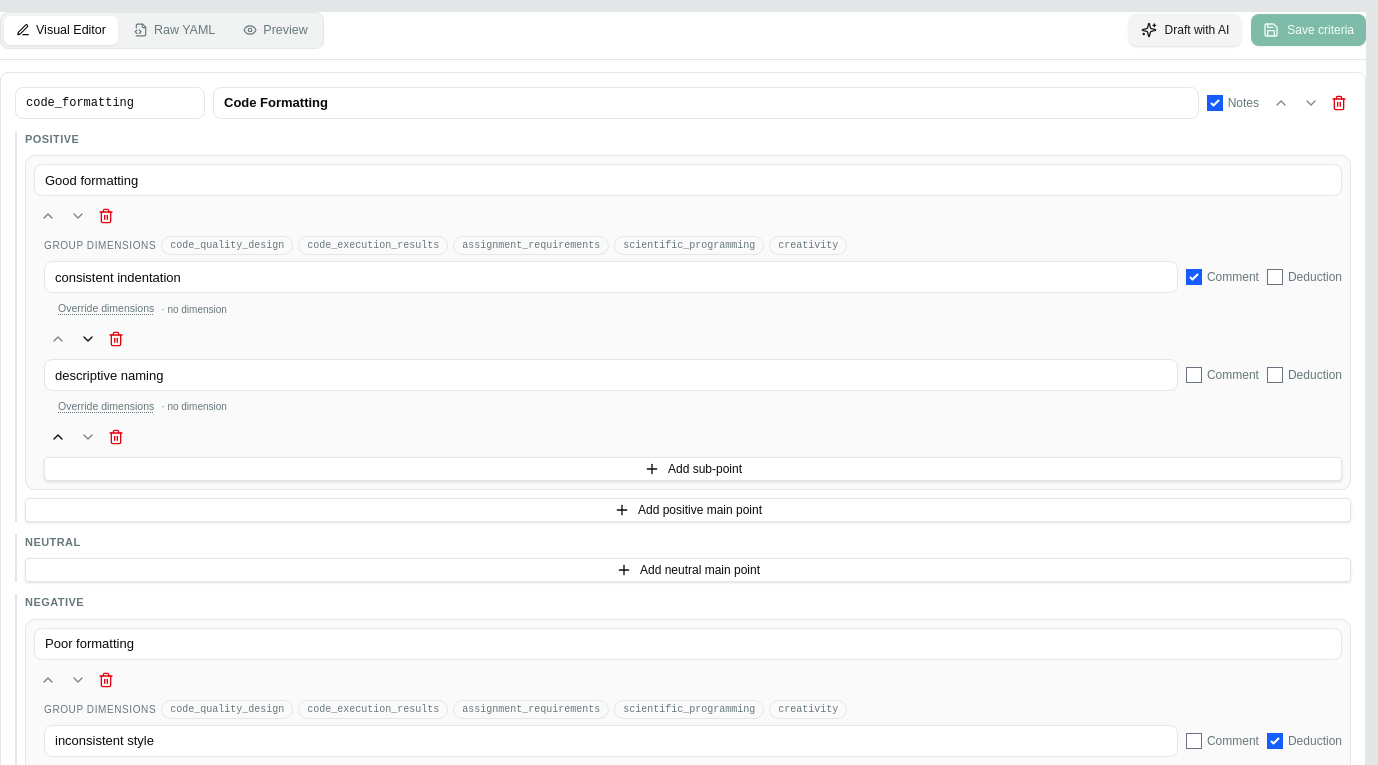
Test: criteria editor — dimension controls › selecting a dimension clears the indicator (and deselecting restores it)
The width and height of the screenshot is (1378, 765).
Check: the 1st text "· no dimension" is shown, box [161,302,227,317]
// Open the override editor and pick a dimension.
Click the 1st button "Override dimensions": [106, 309] box [58,301,154,317]
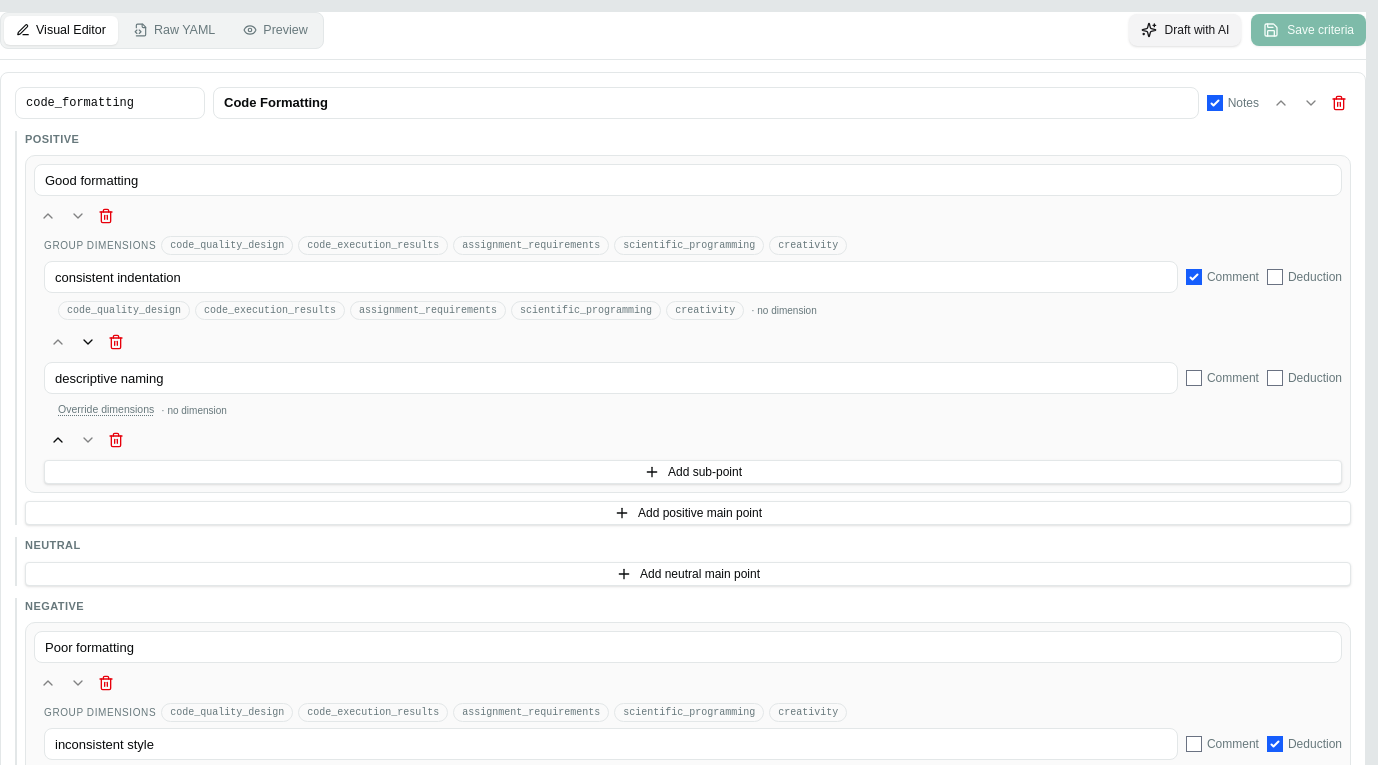
Click the 2nd button "creativity": [705, 311] box [666,301,744,320]
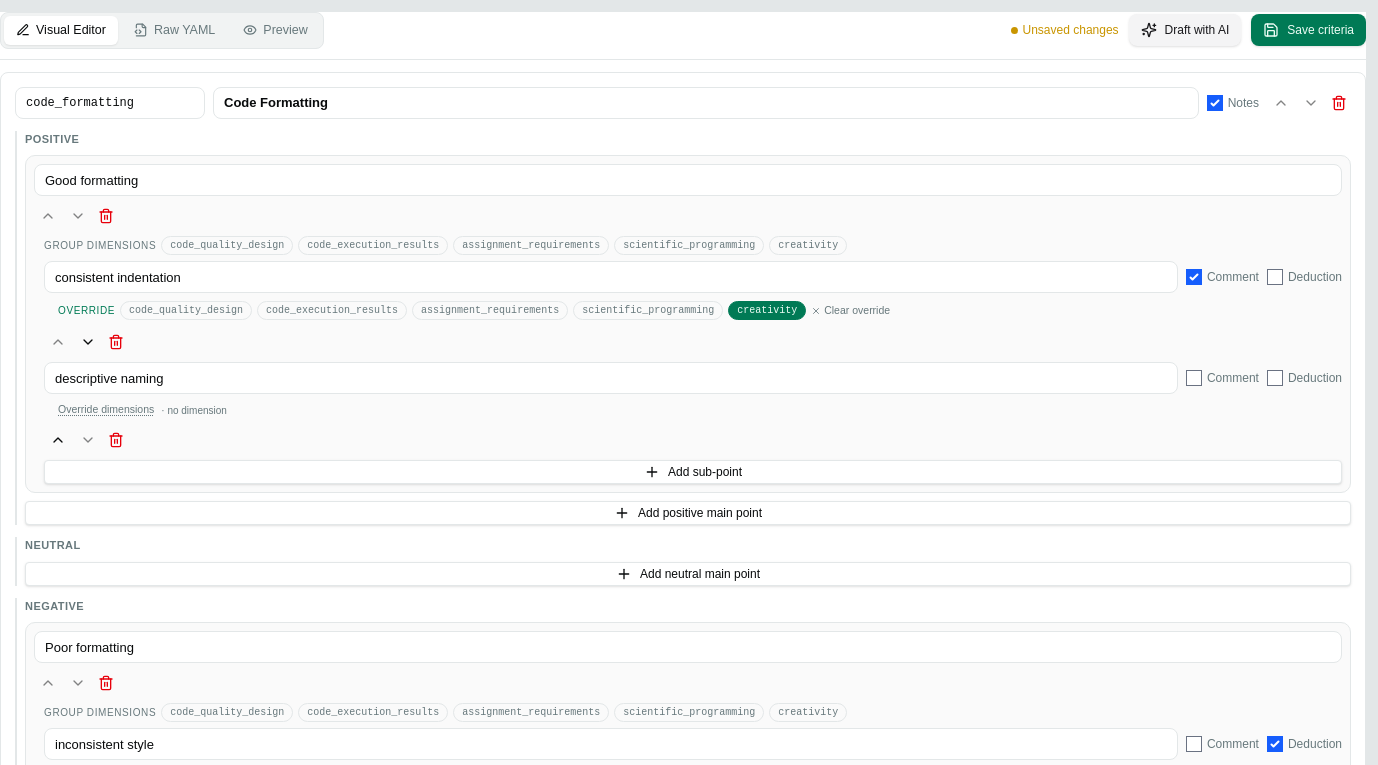
// Deselecting closes the empty override editor and the indicator returns.
Click the 2nd button "creativity": [767, 311] box [728,301,806,320]
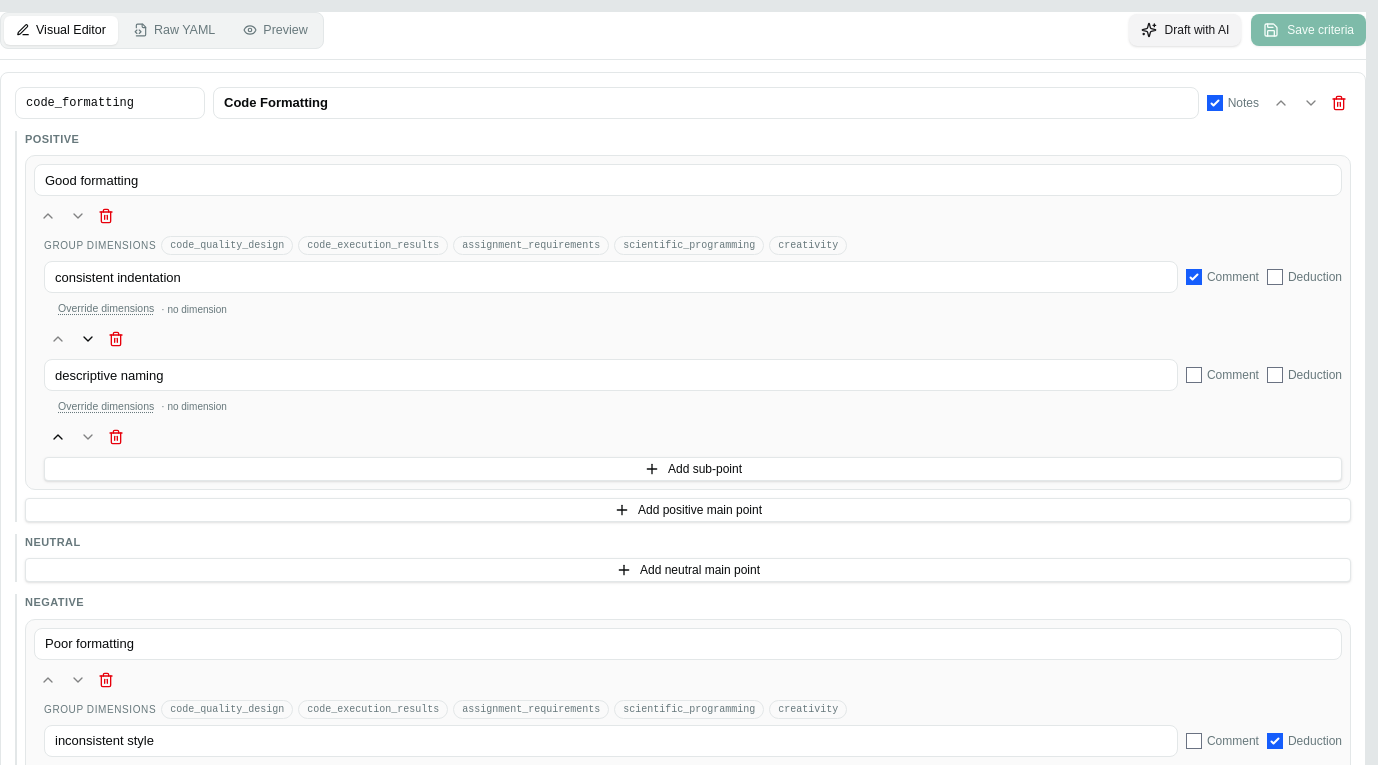
Check: the 1st button "Override dimensions" is shown, box [58,301,154,317]
Check: the 1st text "· no dimension" is shown, box [161,302,227,317]
